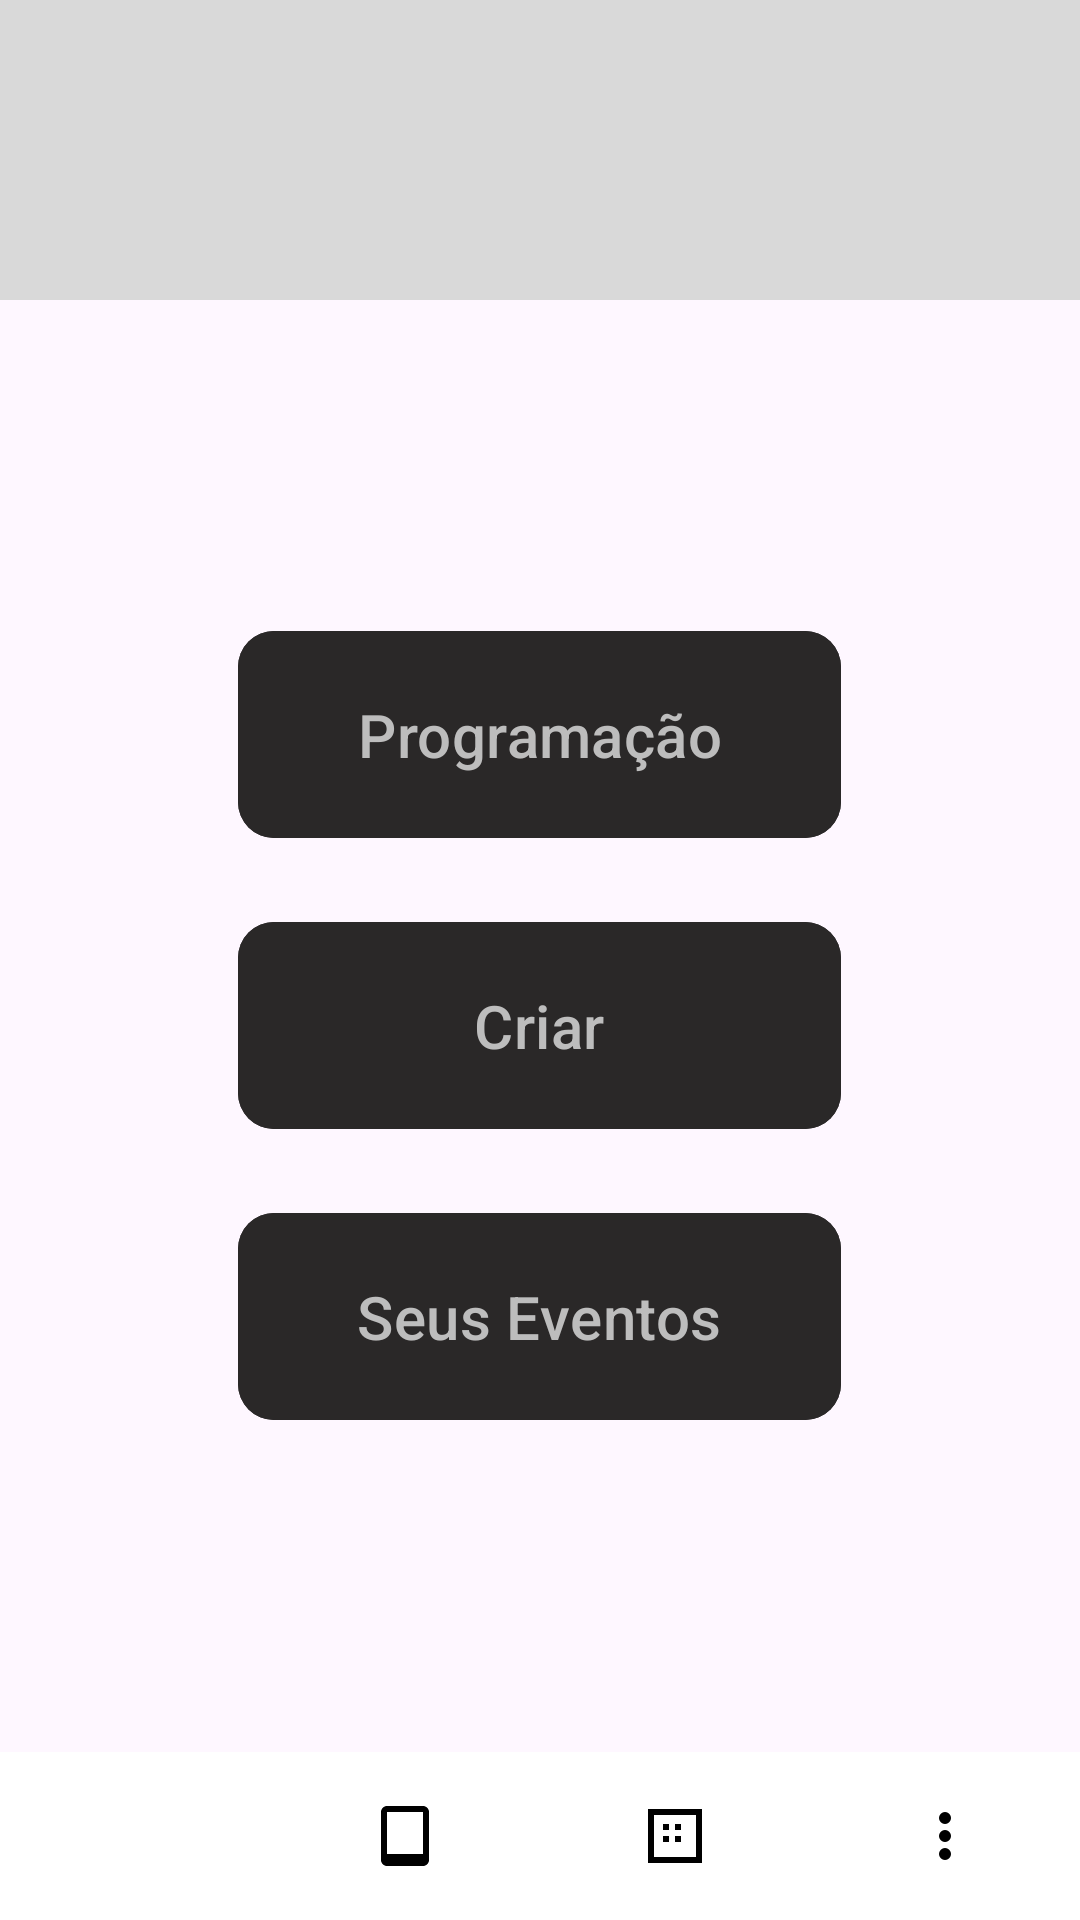

Named icons in this screenshot (1080 × 1920) and their centers, (x,y):
Mais opções: (945,1836)
